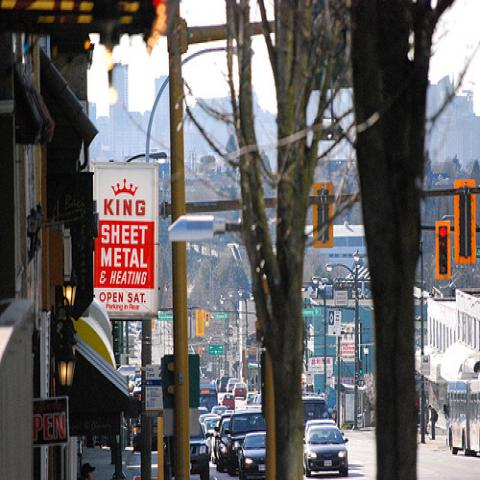bus: (445, 375, 479, 457), (200, 384, 218, 412)
car: (226, 410, 267, 479), (303, 425, 349, 478), (238, 428, 267, 479), (190, 422, 212, 479), (214, 418, 231, 472), (202, 417, 221, 450), (208, 426, 219, 464), (232, 383, 248, 401), (226, 377, 240, 391), (211, 404, 229, 414), (250, 393, 262, 405), (197, 406, 209, 415)
truck: (302, 395, 329, 432)
